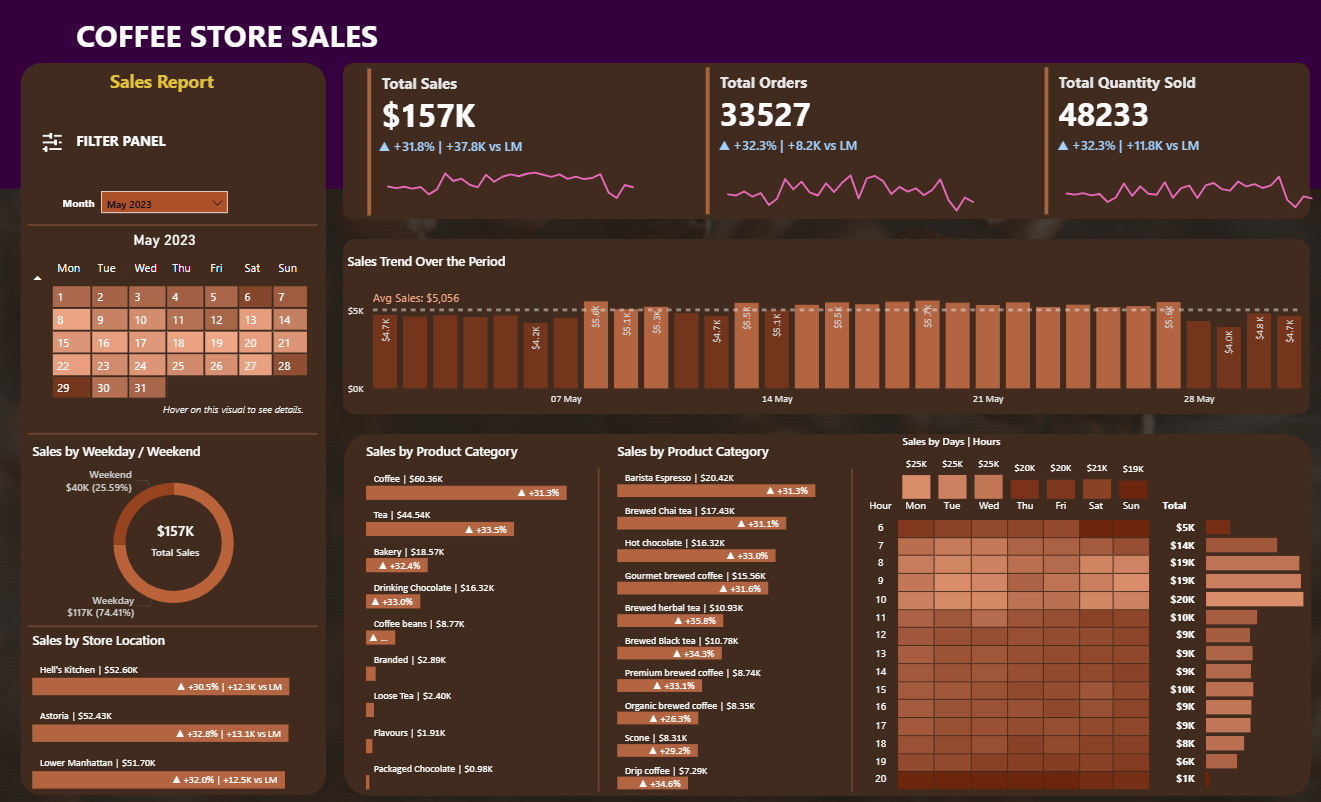

Layout of this report page (visuals, bound fields, positions):
{"tool":"powerbi","page":{"name":"Page 1","canvas":[1400,850],"ordinal":0},"visuals":[{"type":"shape","box":[0,0,1400,200],"z":0},{"type":"shape","box":[22.7,67.3,322.7,772.7],"z":1000},{"type":"shape","box":[362.5,67.5,1020,165],"z":2000},{"type":"textbox","box":[76.7,11.7,373.3,56.7],"z":3000},{"type":"cardVisual","fields":{"Data":["Transactions.Total Orders"]},"box":[741.7,66.7,300,165.7],"z":4000,"group":"g2"},{"type":"cardVisual","fields":{"Data":["Transactions.Total Quantity Sold"]},"box":[1100,66.7,300,165.7],"z":4000,"group":"g3"},{"type":"cardVisual","fields":{"Data":["Transactions.Total Sales"]},"box":[383.3,68.3,300,165.7],"z":4000,"group":"g1"},{"type":"slicer","fields":{"Values":["Date Table.Month Year"]},"box":[102.5,197.5,143.8,36.2],"z":4000},{"type":"group","id":"g1","title":"Group 1","box":[383.3,68.3,300,166.7],"z":5000},{"type":"group","id":"g2","title":"Group 1","box":[741.7,66.7,300,165],"z":6000},{"type":"lineChart","fields":{"Category":["Date Table.Date.Variation.Date Hierarchy.Year","Date Table.Date.Variation.Date Hierarchy.Quarter","Date Table.Date.Variation.Date Hierarchy.Month","Date Table.Date.Variation.Date Hierarchy.Day"],"Y":["Transactions.Total Orders"]},"box":[753.4,144.8,288.3,85],"z":6000,"group":"g2"},{"type":"lineChart","fields":{"Category":["Date Table.Date.Variation.Date Hierarchy.Year","Date Table.Date.Variation.Date Hierarchy.Quarter","Date Table.Date.Variation.Date Hierarchy.Month","Date Table.Date.Variation.Date Hierarchy.Day"],"Y":["Transactions.Total Quantity Sold"]},"box":[1111.7,144.8,288.3,85],"z":6000,"group":"g3"},{"type":"lineChart","fields":{"Category":["Date Table.Date.Variation.Date Hierarchy.Year","Date Table.Date.Variation.Date Hierarchy.Quarter","Date Table.Date.Variation.Date Hierarchy.Month","Date Table.Date.Variation.Date Hierarchy.Day"],"Y":["Transactions.Total Sales"]},"box":[395,146.4,288.3,85],"z":6000,"group":"g1"},{"type":"group","id":"g3","title":"Group 1","box":[1100,66.7,300,165],"z":7000},{"type":"pivotTable","fields":{"Rows":["Date Table.Week Number"],"Columns":["Date Table.Day Name"],"Values":["Min(Date Table.Day Number)"]},"box":[26,268,314,190],"z":8000},{"type":"card","fields":{"Values":["Min(Date Table.Month Year)"]},"box":[116,234,118,40],"z":9000},{"type":"card","fields":{"Values":["Transactions.Note"]},"box":[158,412,178,46],"z":10000},{"type":"shape","box":[30,450,306,18],"z":11000},{"type":"shape","box":[30,230,306,18],"z":12000},{"type":"donutChart","title":"Sales by Weekday / Weekend","fields":{"Category":["Date Table.Weekday / Weekend"],"Y":["Transactions.Total Sales"]},"box":[30,468,308,194],"z":13000},{"type":"card","fields":{"Values":["Transactions.Total Sales"]},"box":[108,530,156,80],"z":14000},{"type":"shape","box":[30,652,306,18],"z":15000},{"type":"clusteredBarChart","title":"Sales by Store Location","fields":{"Category":["Transactions.store_location"],"Y":["Transactions.Placeholder","Transactions.Total Sales"]},"box":[30,666.5,306.5,173.5],"z":16000},{"type":"shape","box":[362.5,253.8,1020,185],"z":17000},{"type":"columnChart","title":"Sales Trend Over the Period","fields":{"Category":["Transactions.transaction_date"],"Y":["Transactions.Total Sales"]},"box":[362.5,267.5,1020,171.2],"z":18000},{"type":"shape","box":[363.6,458.2,1020,381.8],"z":19000},{"type":"clusteredBarChart","title":"Sales by Product Category","fields":{"Y":["Transactions.Placeholder","Transactions.Total Sales"],"Category":["Transactions.product_category"]},"box":[382.9,468.6,250,371.4],"z":20000},{"type":"shape","box":[623.8,495,17.5,341.2],"z":21000},{"type":"clusteredBarChart","title":"Sales by Product Category","fields":{"Y":["Transactions.Placeholder","Transactions.Total Sales"],"Category":["Transactions.product_type"]},"box":[647.5,467.5,250,371.2],"z":22000},{"type":"shape","box":[891.4,495.7,17.1,340],"z":23000},{"type":"pivotTable","fields":{"Columns":["Date Table.Day Name"],"Rows":["Transactions.Hour"],"Values":["Transactions.Total Sales"]},"box":[906.4,521.8,387.3,318.2],"z":24000},{"type":"barChart","fields":{"Category":["Transactions.Hour"],"Y":["Transactions.Total Sales"]},"box":[1268.2,536.4,114.5,299.1],"z":25000},{"type":"columnChart","title":"Sales by Days | Hours","fields":{"Y":["Transactions.Total Sales"],"Category":["Date Table.Day Name"]},"box":[947.3,459.1,269.1,74.5],"z":26000},{"type":"textbox","box":[51.2,200,65,32.5],"z":27000},{"type":"textbox","box":[112.5,68.8,125,40],"z":27001},{"type":"textbox","box":[76.2,135,125,33.8],"z":27002},{"type":"image","box":[37.5,135,38.8,33.8],"z":27003}]}

Visuals, with their boxes in screenshot pixels (x1, y1, x2, y2), scaled from the page's 1400x850 canvas onto the 1321x802 screenshot:
shape: locate(0, 0, 1320, 189)
shape: locate(21, 63, 326, 793)
shape: locate(342, 64, 1304, 219)
textbox: locate(72, 11, 425, 65)
cardVisual - Transactions.Total Orders: locate(700, 63, 983, 219)
cardVisual - Transactions.Total Quantity Sold: locate(1038, 63, 1320, 219)
cardVisual - Transactions.Total Sales: locate(362, 64, 645, 221)
slicer - Date Table.Month Year: locate(97, 186, 232, 221)
"Group 1" group: locate(362, 64, 645, 222)
"Group 1" group: locate(700, 63, 983, 219)
lineChart - Date Table.Date.Variation.Date Hierarchy.Year x Date Table.Date.Variation.Date Hierarchy.Quarter: locate(711, 137, 983, 217)
lineChart - Date Table.Date.Variation.Date Hierarchy.Year x Date Table.Date.Variation.Date Hierarchy.Quarter: locate(1049, 137, 1320, 217)
lineChart - Date Table.Date.Variation.Date Hierarchy.Year x Date Table.Date.Variation.Date Hierarchy.Quarter: locate(373, 138, 645, 218)
"Group 1" group: locate(1038, 63, 1320, 219)
pivotTable - Date Table.Week Number x Date Table.Day Name: locate(25, 253, 321, 432)
card - Min(Date Table.Month Year): locate(109, 221, 221, 259)
card - Transactions.Note: locate(149, 389, 317, 432)
shape: locate(28, 425, 317, 442)
shape: locate(28, 217, 317, 234)
"Sales by Weekday / Weekend" donutChart: locate(28, 442, 319, 625)
card - Transactions.Total Sales: locate(102, 500, 249, 576)
shape: locate(28, 615, 317, 632)
"Sales by Store Location" clusteredBarChart: locate(28, 629, 318, 793)
shape: locate(342, 239, 1304, 414)
"Sales Trend Over the Period" columnChart: locate(342, 252, 1304, 414)
shape: locate(343, 432, 1306, 793)
"Sales by Product Category" clusteredBarChart: locate(361, 442, 597, 793)
shape: locate(589, 467, 605, 789)
"Sales by Product Category" clusteredBarChart: locate(611, 441, 847, 791)
shape: locate(841, 468, 857, 789)
pivotTable - Date Table.Day Name x Transactions.Hour: locate(855, 492, 1221, 793)
barChart - Transactions.Hour x Transactions.Total Sales: locate(1197, 506, 1305, 788)
"Sales by Days | Hours" columnChart: locate(894, 433, 1148, 503)
textbox: locate(48, 189, 110, 219)
textbox: locate(106, 65, 224, 103)
textbox: locate(72, 127, 190, 159)
image: locate(35, 127, 72, 159)
